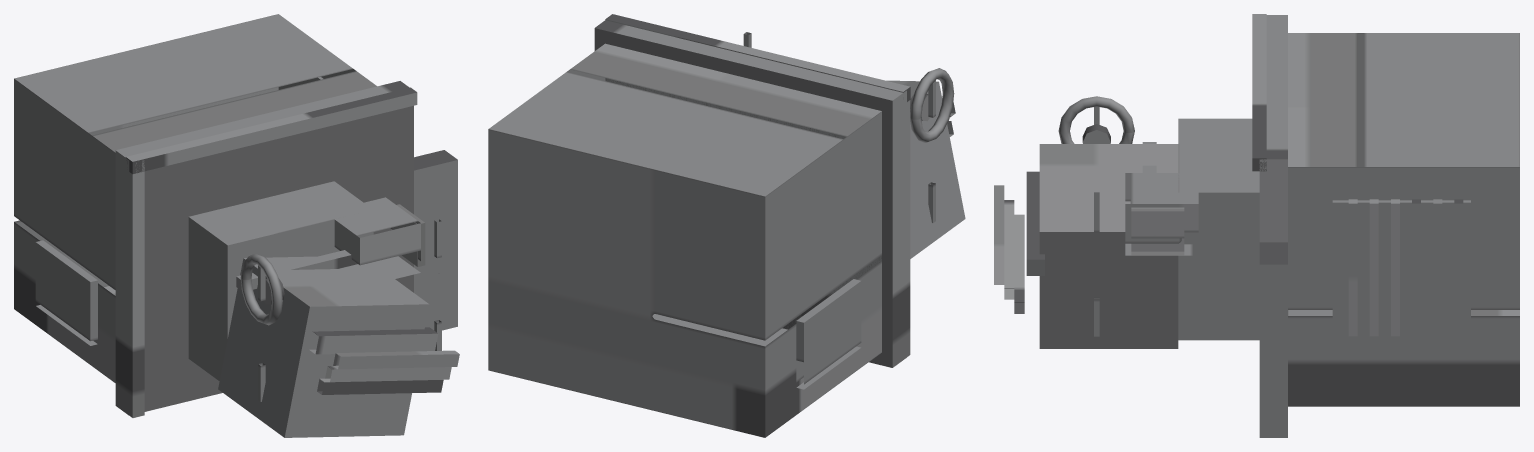
3 views of the same model, side by side, from view 1: azimuth 30°, elevation 25°; view 2: azimuth 150°, elevation 25°; view 3: azimuth 270°, elevation 25° (orthographic). The views are drawn at different scales.
Bounding box in the file's own units: 1.05 × 0.7803 × 1.4.
